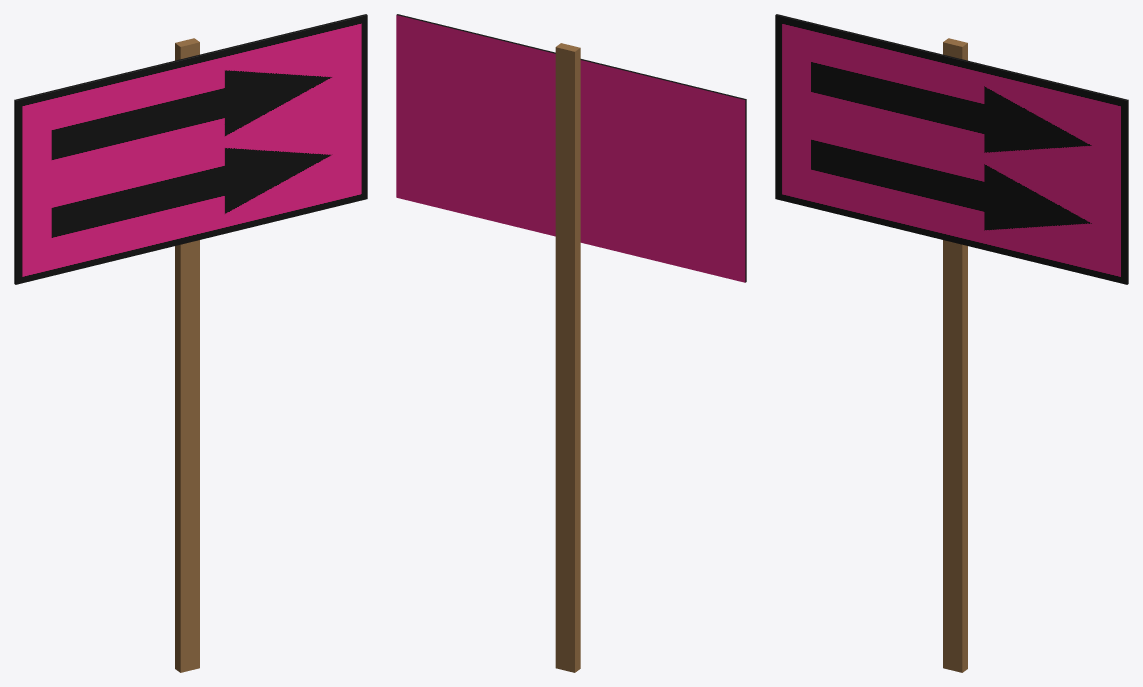
The model's file is arrow3_r.dae.
The picture shows the model from 3 angles, left to right: view 1: azimuth 30°, elevation 25°; view 2: azimuth 150°, elevation 25°; view 3: azimuth 330°, elevation 25°; orthographic projection.
Parts seen in each view (by area): view 1: marker; view 2: marker; view 3: marker.
Boxes of the visible parts, x1=… form: marker: x1=14, y1=14, x2=367, y2=672; marker: x1=396, y1=14, x2=746, y2=672; marker: x1=775, y1=14, x2=1128, y2=672.
Bounding box in the file's own units: 0.9 × 0.031 × 1.53.
1 material, 1 textured.
